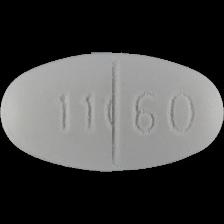10544-243: (0, 0, 224, 224)
